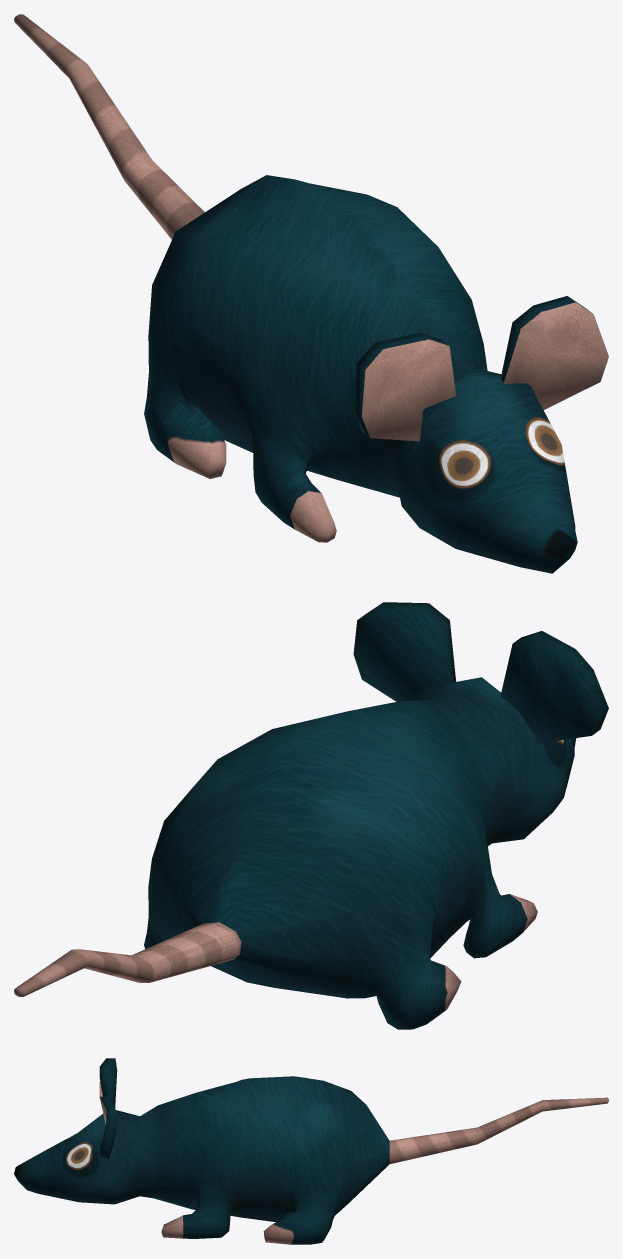
Rendered from Obstacle_rat_1.fbx.
The picture shows the model from 3 angles, top to bottom: view 1: azimuth 30°, elevation 25°; view 2: azimuth 150°, elevation 25°; view 3: azimuth 270°, elevation 25°; orthographic projection. The views are drawn at different scales.
Parts seen in each view (by area): view 1: Obstacle_rat_1; view 2: Obstacle_rat_1; view 3: Obstacle_rat_1.
Part boxes in pixels (x1,y1,x2,y2): Obstacle_rat_1: (14,14,608,573); Obstacle_rat_1: (14,602,608,1029); Obstacle_rat_1: (14,1058,608,1244).
Size of the model in its own units: 62.67 by 52.45 by 211.
